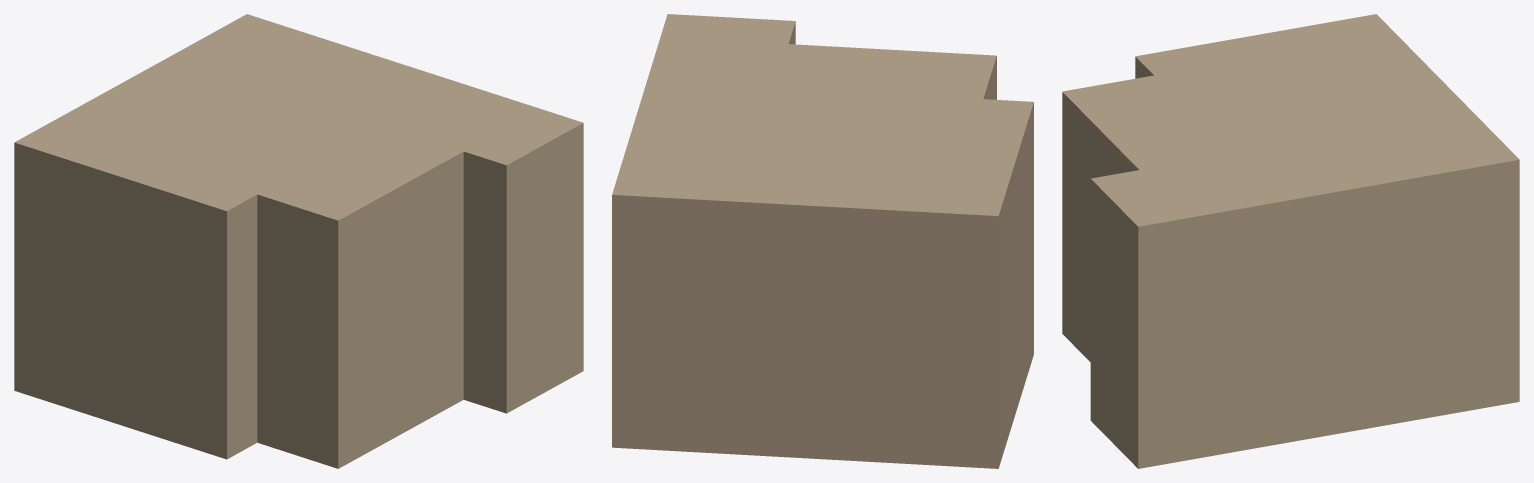
The model's file is bld_107625354.dae.
3 views of the same model, side by side, from view 1: azimuth 30°, elevation 25°; view 2: azimuth 150°, elevation 25°; view 3: azimuth 270°, elevation 25° (orthographic). The views are drawn at different scales.
Parts seen in each view (by area): view 1: bld_107625354; view 2: bld_107625354; view 3: bld_107625354.
Part boxes in pixels (x1,y1,x2,y2): bld_107625354: [14, 14, 583, 468]; bld_107625354: [612, 14, 1033, 468]; bld_107625354: [1062, 14, 1519, 468].
Bounding box in the file's own units: 15.08 × 13.7 × 8.
